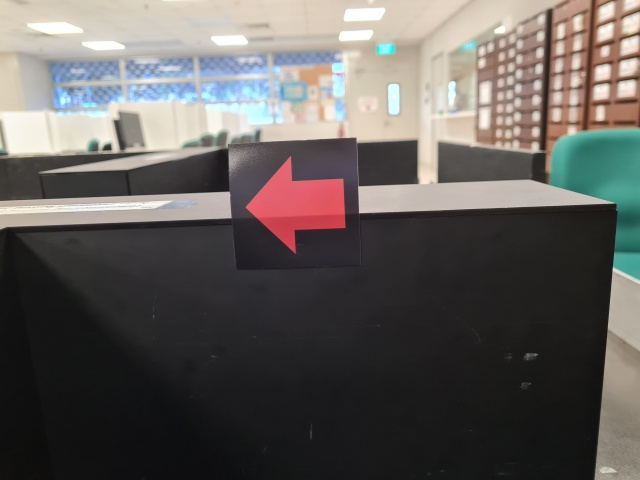left_arrow: (227, 138, 362, 275)
